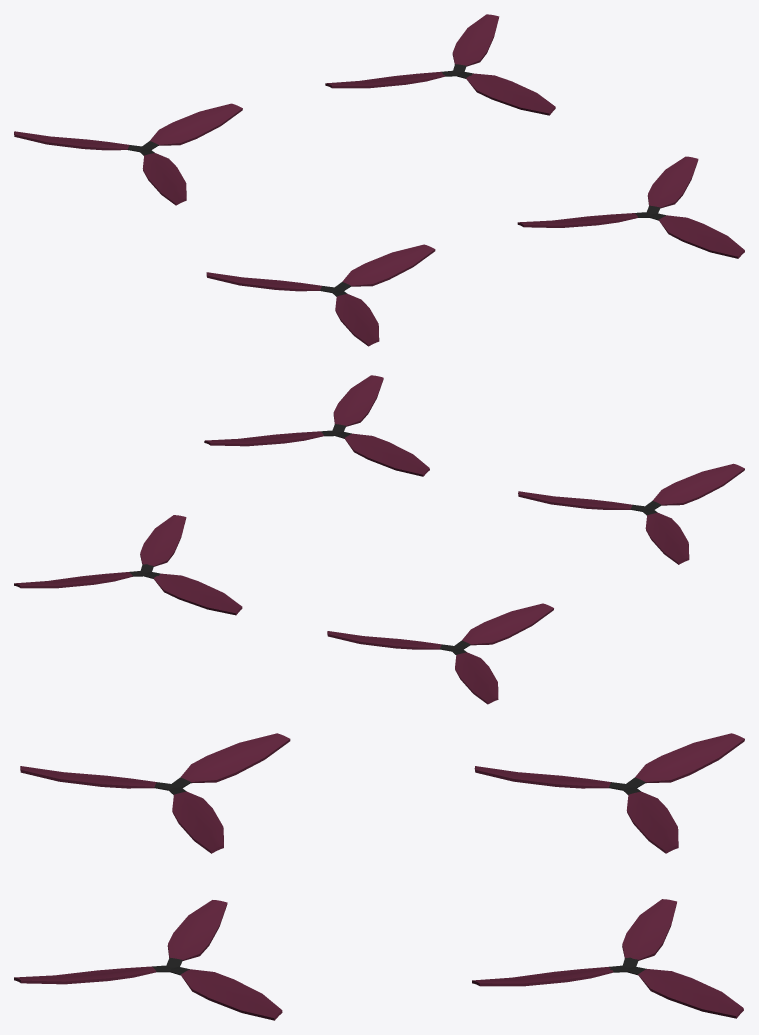
The model's file is Helice2.gltf.
3 views of the same model, one above another, from view 1: azimuth 30°, elevation 25°; view 2: azimuth 150°, elevation 25°; view 3: azimuth 270°, elevation 25° (orthographic). The views are drawn at different scales.
Parts seen in each view (by area): view 1: Helice_2.002, Helice_2.003, Helice_2.001, Helice_2; view 2: Helice_2.002, Helice_2.003, Helice_2.001, Helice_2; view 3: Helice_2.003, Helice_2.002, Helice_2.001, Helice_2.
Boxes of the visible parts, x1,y1,x2,y2 form: Helice_2.002: (325,14,555,115); Helice_2.003: (517,156,744,258); Helice_2.001: (14,103,242,205); Helice_2: (206,244,435,346); Helice_2.002: (14,515,242,615); Helice_2.003: (204,375,429,476); Helice_2.001: (327,603,553,704); Helice_2: (518,463,744,564); Helice_2.003: (14,900,282,1020); Helice_2.002: (472,899,743,1018); Helice_2.001: (474,733,744,853); Helice_2: (20,733,290,853).
Size of the model in its own units: 4.07 by 0.065 by 4.45.
